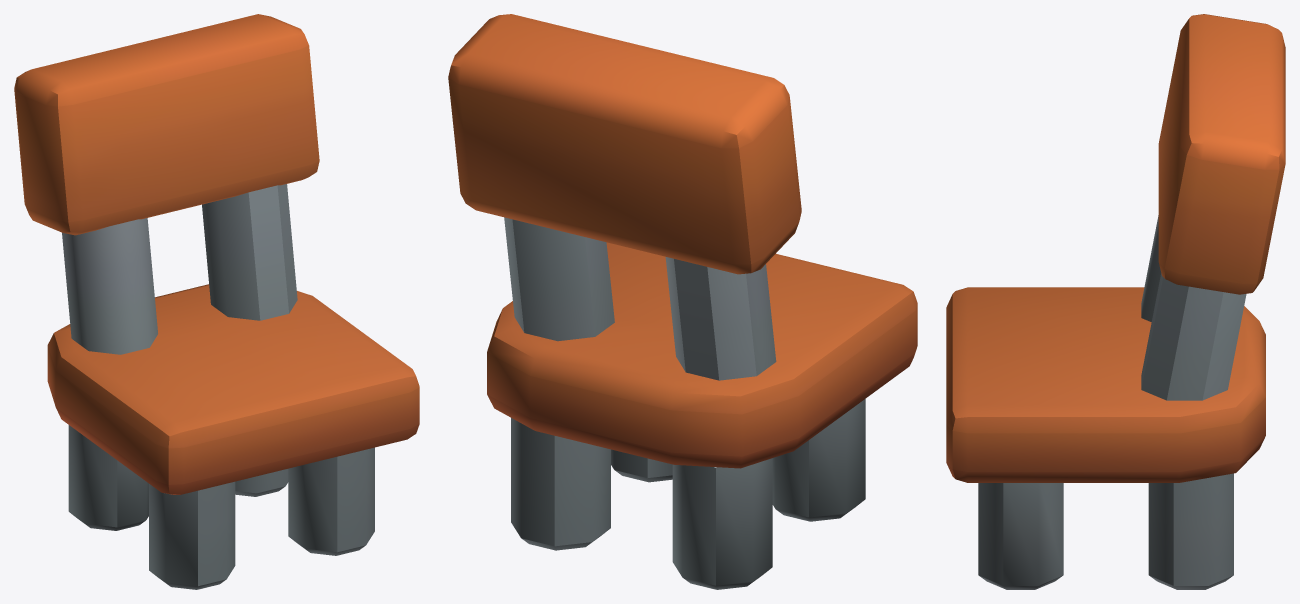
File: kay-cadeira-restaurante.gltf
The picture shows the model from 3 angles, left to right: view 1: azimuth 30°, elevation 25°; view 2: azimuth 150°, elevation 25°; view 3: azimuth 270°, elevation 25°; orthographic projection. The views are drawn at different scales.
Parts seen in each view (by area): view 1: chair_A; view 2: chair_A; view 3: chair_A.
Part boxes in pixels (box(x1,y1,x2,y2)): chair_A: box(14, 14, 419, 589); chair_A: box(448, 14, 917, 589); chair_A: box(946, 14, 1285, 589).
Bounding box in the file's own units: 0.4875 × 0.7852 × 0.5176.
Materials: 1 (1 with a texture image).
